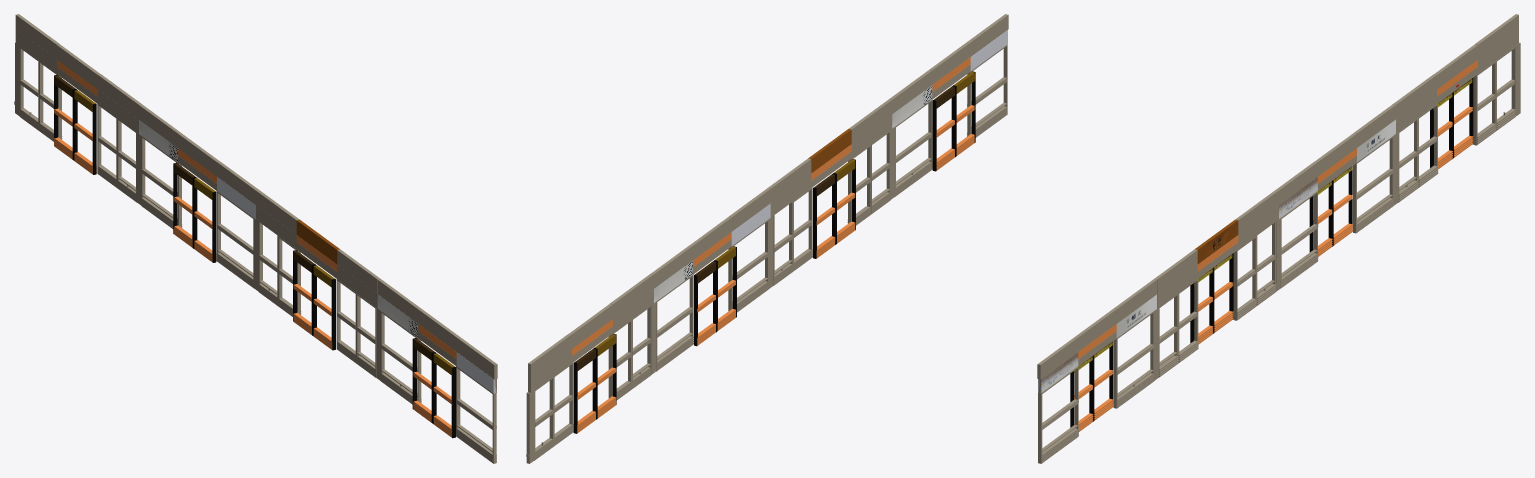
File: Platform_hl.fbx
The picture shows the model from 3 angles, left to right: view 1: azimuth 30°, elevation 25°; view 2: azimuth 150°, elevation 25°; view 3: azimuth 330°, elevation 25°; orthographic projection.
Visible parts, largest first — view 1: 立方體.211, 立方體.216, 立方體.213, 立方體.215, 立方體.222, 立方體.212, 立方體.214, 立方體.209, 立方體.219, 立方體.220, 立方體.221, 立方體.210 (+8 smaller); view 2: 立方體.216, 立方體.214, 立方體.212, 立方體.215, 立方體.222, 立方體.213, 立方體.209, 立方體.219, 立方體.220, 立方體.221, 立方體.211, 立方體.210 (+9 smaller); view 3: 立方體.211, 立方體.213, 立方體.216, 立方體.215, 立方體.222, 立方體.212, 立方體.214, 立方體.209, 立方體.219, 立方體.220, 立方體.221, 立方體.210 (+8 smaller).
Boxes of the visible parts, <box> form: 立方體.211: <box>455,336,497,379</box>; 立方體.216: <box>15,14,59,58</box>; 立方體.213: <box>296,219,339,264</box>; 立方體.215: <box>98,74,141,118</box>; 立方體.222: <box>57,44,100,89</box>; 立方體.212: <box>337,249,380,293</box>; 立方體.214: <box>256,190,299,234</box>; 立方體.209: <box>378,279,420,323</box>; 立方體.219: <box>217,161,258,204</box>; 立方體.220: <box>178,133,219,176</box>; 立方體.221: <box>139,104,180,147</box>; 立方體.210: <box>418,308,458,350</box>; 立方體.216: <box>528,333,571,378</box>; 立方體.214: <box>768,158,811,202</box>; 立方體.212: <box>849,99,892,143</box>; 立方體.215: <box>610,273,653,318</box>; 立方體.222: <box>569,304,612,348</box>; 立方體.213: <box>808,129,851,173</box>; 立方體.209: <box>889,70,932,113</box>; 立方體.219: <box>729,188,770,231</box>; 立方體.220: <box>690,217,731,259</box>; 立方體.221: <box>651,245,692,288</box>; 立方體.211: <box>967,14,1008,56</box>; 立方體.210: <box>929,42,969,84</box>; 立方體.211: <box>1037,336,1079,379</box>; 立方體.213: <box>1195,219,1238,263</box>; 立方體.216: <box>1475,14,1518,58</box>; 立方體.215: <box>1393,74,1436,118</box>; 立方體.222: <box>1434,44,1477,89</box>; 立方體.212: <box>1154,249,1197,293</box>; 立方體.214: <box>1235,190,1278,234</box>; 立方體.209: <box>1114,279,1156,323</box>; 立方體.219: <box>1276,161,1317,204</box>; 立方體.220: <box>1315,133,1356,176</box>; 立方體.221: <box>1354,104,1395,147</box>; 立方體.210: <box>1076,308,1116,350</box>.
Size of the model in its own units: 53.9 by 601 by 5257.
86 materials, 13 textured.
